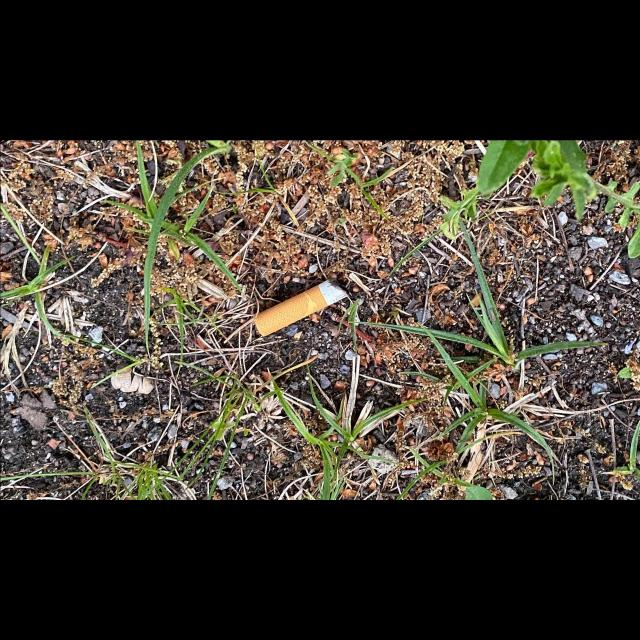cigarette: (252, 277, 351, 337)
